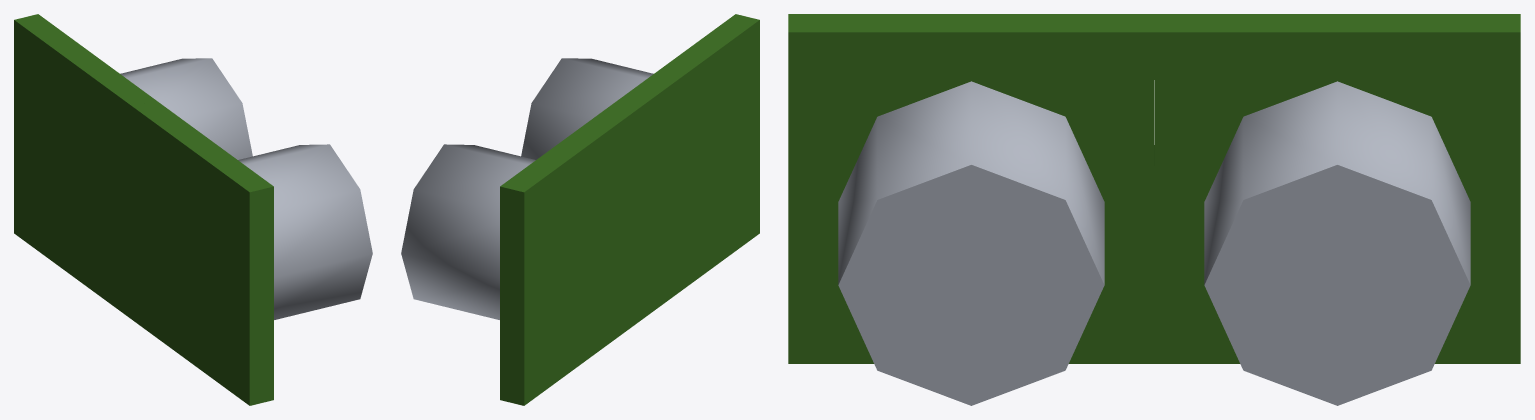
File: max_ez4.dae
3 views of the same model, side by side, from view 1: azimuth 30°, elevation 25°; view 2: azimuth 150°, elevation 25°; view 3: azimuth 270°, elevation 25° (orthographic). The views are drawn at different scales.
Visible parts, largest first — view 1: Plane; view 2: Plane; view 3: Plane.
Part boxes in pixels (x1=…): Plane: x1=14, y1=14, x2=372, y2=405; Plane: x1=401, y1=14, x2=759, y2=405; Plane: x1=788, y1=14, x2=1520, y2=405.
Size of the model in its own units: 0.015 by 0.044 by 0.022.
